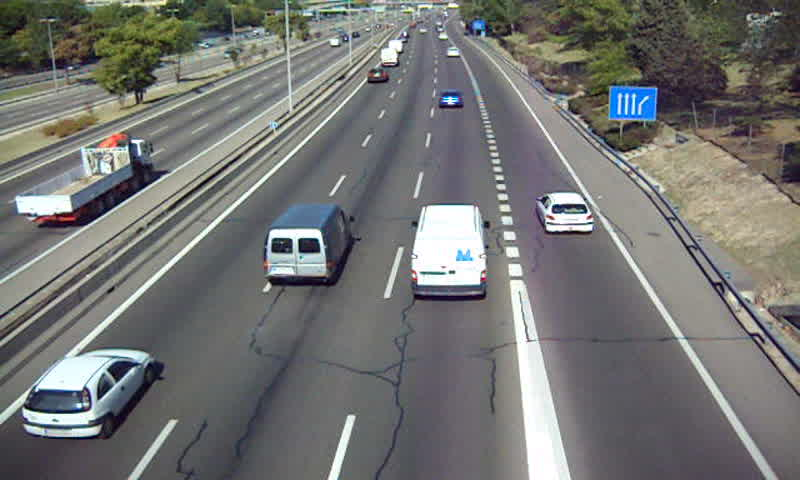car: (21, 349, 154, 440), (536, 190, 594, 235), (437, 90, 464, 108), (366, 68, 388, 84)
van: (263, 205, 353, 283), (410, 205, 486, 296), (380, 48, 399, 67)
